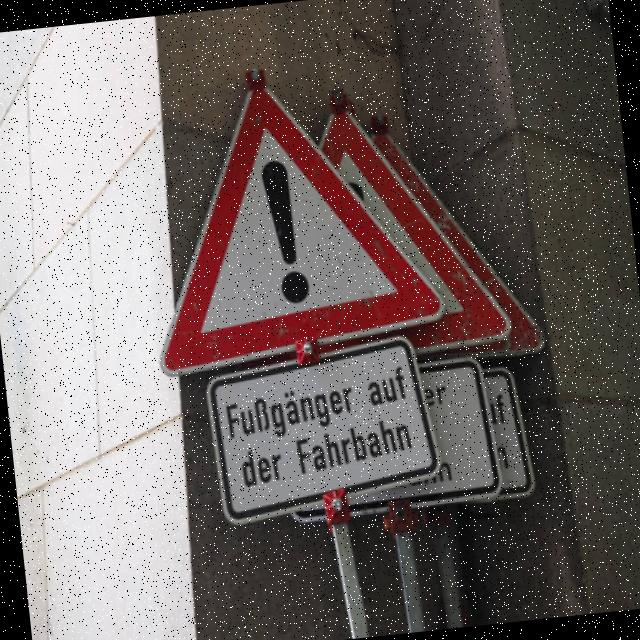warning: (120, 52, 446, 393)
